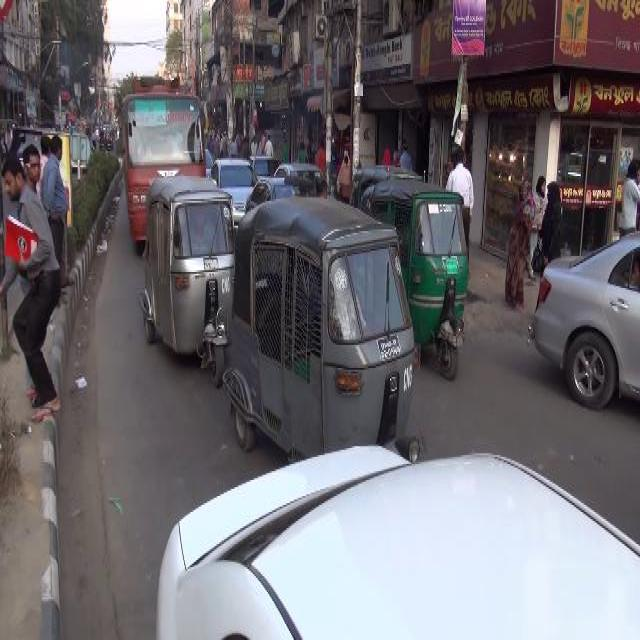bus: (117, 70, 207, 228)
car: (526, 218, 636, 418)
three wheelers -CNG-: (223, 190, 424, 464), (357, 176, 473, 386), (138, 174, 236, 382), (352, 164, 422, 220)
